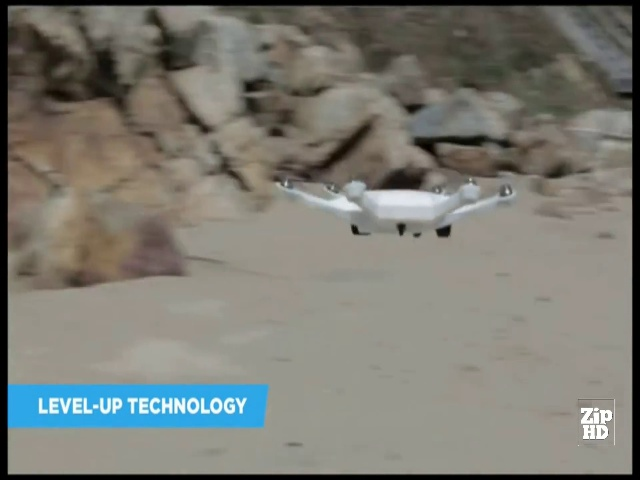drone: (265, 156, 522, 246)
